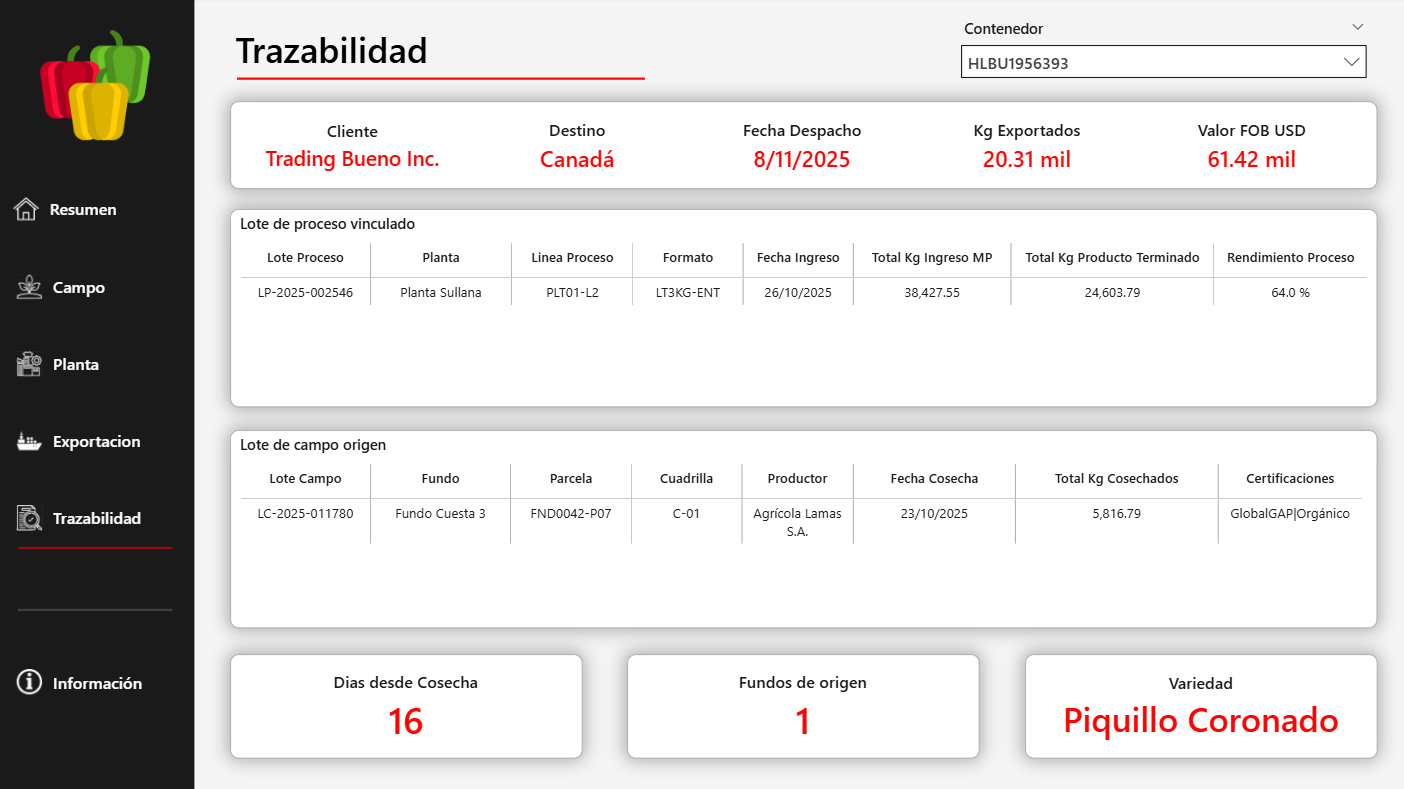

What the dashboard file says about the page in this screenshot:
{"tool":"powerbi","page":{"name":"Trazabilidad","canvas":[1280,720],"ordinal":4},"visuals":[{"type":"shape","box":[0,0,180.4,720],"z":0},{"type":"cardVisual","fields":{"Data":["Min(Trazabilidad.Cliente)","Min(Trazabilidad.PaisDestino)","Min(Trazabilidad.FechaDespacho)","Avg(Trazabilidad.KgNetosExportados)","Avg(Trazabilidad.ValorFOB_USD)"]},"box":[211.9,94.3,1041.4,80],"z":1000},{"type":"textbox","box":[212.1,20,380,55],"z":2000},{"type":"shape","box":[218.2,68.4,370,12.1],"z":3000},{"type":"slicer","fields":{"Values":["Trazabilidad.ContenedorNum"]},"box":[865.4,14.4,387.8,66.4],"z":4000},{"type":"actionButton","box":[12,170,155,44],"z":5000},{"type":"shape","box":[19.8,493.8,140,12.6],"z":6000},{"type":"actionButton","box":[12,240,155,44],"z":7000},{"type":"actionButton","box":[12,310,155,44],"z":8000},{"type":"actionButton","box":[12,380,155,44],"z":9000},{"type":"actionButton","box":[12,450,155,44],"z":10000},{"type":"image","box":[39.5,29.6,99.7,99.7],"z":11000},{"type":"actionButton","box":[12,600,154.4,44],"z":12000},{"type":"shape","box":[19.8,550,140,12.6],"z":13000},{"type":"tableEx","title":"Lote de proceso vinculado","fields":{"Values":["Trazabilidad.LoteProcesoID","Trazabilidad.NombrePlanta","Trazabilidad.CodLinea","Trazabilidad.CodFormato","Trazabilidad.FechaIngresoPlanta","Sum(Trazabilidad.KgIngresoMP)","Sum(Trazabilidad.KgProductoTerminado)","Sum(Trazabilidad.RendimientoProceso)"]},"box":[211.9,192.1,1041.4,180.4],"z":14000},{"type":"tableEx","title":"Lote de campo origen","fields":{"Values":["Trazabilidad.LoteCampoID","Trazabilidad.NombreFundo","Trazabilidad.CodParcela","Trazabilidad.CodCuadrilla","Trazabilidad.NombreProductor","Trazabilidad.FechaCosecha","Sum(Trazabilidad.KgCosechados)","Trazabilidad.Certificaciones"]},"box":[211.9,393.2,1041.4,180],"z":15000},{"type":"cardVisual","fields":{"Data":["_Medidas.Dias Cosecha a Despacho"]},"box":[211.9,596.1,319.6,95.2],"z":16000},{"type":"cardVisual","fields":{"Data":["_Medidas.Fundos en el Contenedor"]},"box":[572.8,596.1,319.6,95.2],"z":17000},{"type":"cardVisual","fields":{"Data":["_Medidas.Productores en el Contenedor"]},"box":[933.7,596.1,319.6,95.2],"z":18000}]}

Visuals, with their boxes on the page's 1280x720 design canvas (x1, y1, x2, y2). These are canvas units, not pixel positions in the 1404x789 screenshot, which may show the page scaled, cropped or inside an application window:
shape: locate(0, 0, 180, 720)
cardVisual - Min(Trazabilidad.Cliente) x Min(Trazabilidad.PaisDestino): locate(212, 94, 1253, 174)
textbox: locate(212, 20, 592, 75)
shape: locate(218, 68, 588, 80)
slicer - Trazabilidad.ContenedorNum: locate(865, 14, 1253, 81)
actionButton: locate(12, 170, 167, 214)
shape: locate(20, 494, 160, 506)
actionButton: locate(12, 240, 167, 284)
actionButton: locate(12, 310, 167, 354)
actionButton: locate(12, 380, 167, 424)
actionButton: locate(12, 450, 167, 494)
image: locate(40, 30, 139, 129)
actionButton: locate(12, 600, 166, 644)
shape: locate(20, 550, 160, 563)
"Lote de proceso vinculado" tableEx: locate(212, 192, 1253, 372)
"Lote de campo origen" tableEx: locate(212, 393, 1253, 573)
cardVisual - _Medidas.Dias Cosecha a Despacho: locate(212, 596, 532, 691)
cardVisual - _Medidas.Fundos en el Contenedor: locate(573, 596, 892, 691)
cardVisual - _Medidas.Productores en el Contenedor: locate(934, 596, 1253, 691)
